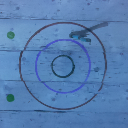Axe Tip: (73, 35, 86, 37)
